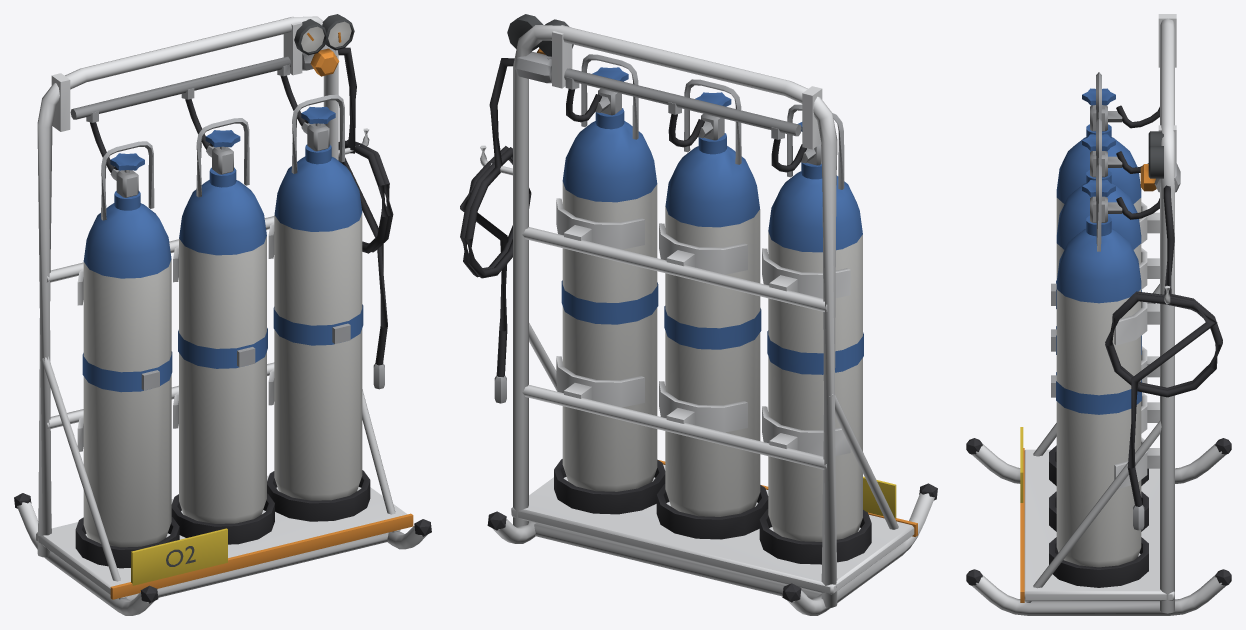
Rendered from o2_cache.glb.
3 renders of one model, left to right at view 1: azimuth 30°, elevation 25°; view 2: azimuth 150°, elevation 25°; view 3: azimuth 270°, elevation 25°, orthographic. The views are drawn at different scales.
Parts seen in each view (by area): view 1: o2_cache_mesh, tank_2_mesh, tank_1_mesh, tank_0_mesh; view 2: o2_cache_mesh, tank_2_mesh, tank_1_mesh, tank_0_mesh; view 3: o2_cache_mesh, tank_2_mesh, tank_1_mesh, tank_0_mesh.
Part boxes in pixels (bbox=[...]): o2_cache_mesh: bbox=[14, 14, 431, 615]; tank_2_mesh: bbox=[273, 94, 363, 500]; tank_1_mesh: bbox=[178, 118, 267, 523]; tank_0_mesh: bbox=[82, 141, 172, 547]; o2_cache_mesh: bbox=[460, 14, 937, 615]; tank_2_mesh: bbox=[561, 54, 658, 491]; tank_1_mesh: bbox=[664, 79, 761, 516]; tank_0_mesh: bbox=[767, 104, 863, 541]; o2_cache_mesh: bbox=[966, 14, 1231, 615]; tank_2_mesh: bbox=[1051, 164, 1141, 567]; tank_1_mesh: bbox=[1051, 118, 1141, 354]; tank_0_mesh: bbox=[1051, 72, 1141, 308].
Size of the model in its own units: 1.05 by 1.45 by 0.7359.
